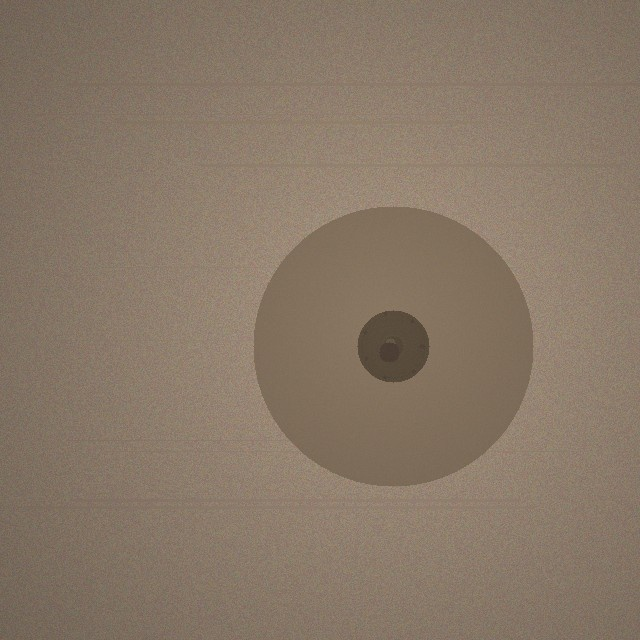cold_weld: (253, 206, 533, 486)
